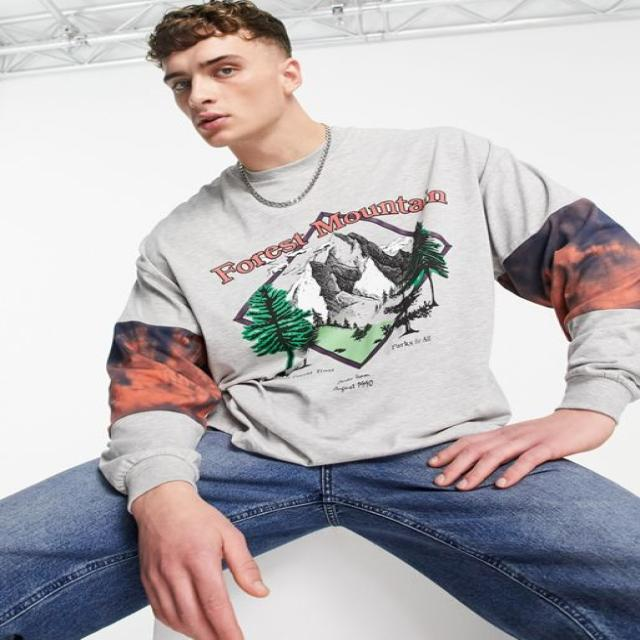tshirt: (98, 123, 632, 497)
